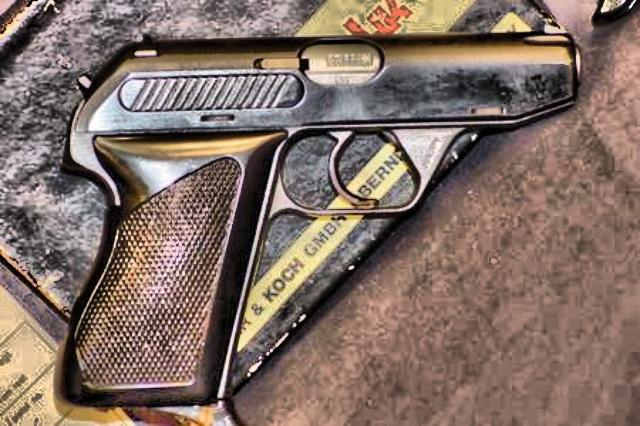pistol: (52, 30, 580, 404)
